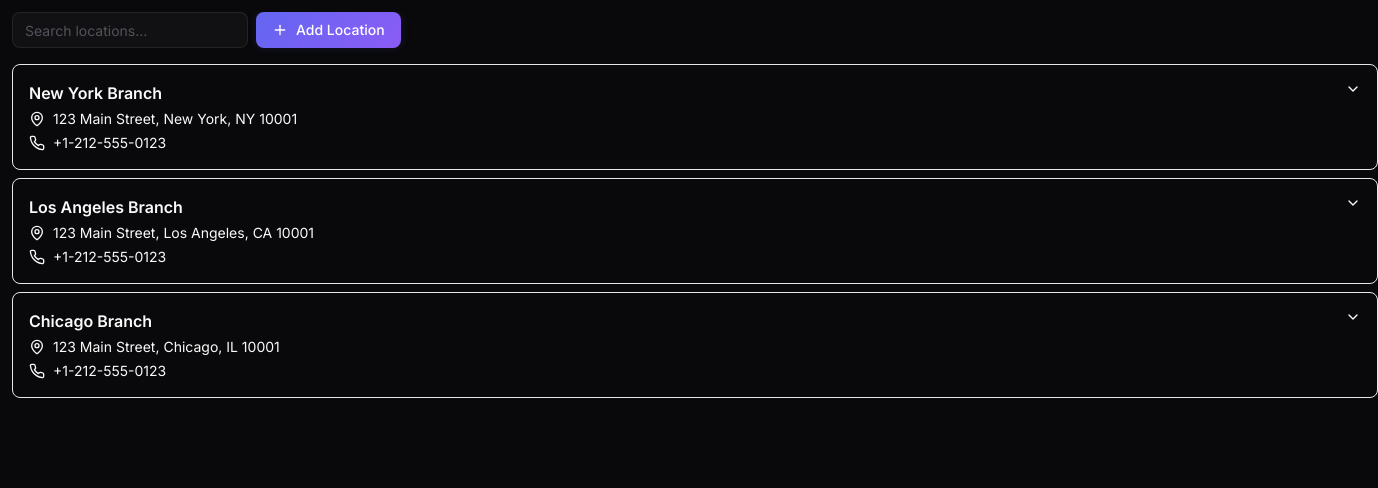
Scenario: LocationList Component › expands location details
This screenshot has width=1378, height=488.
Click the text "New York Branch" at (163, 117), box x1=29 y1=83 x2=297 y2=151
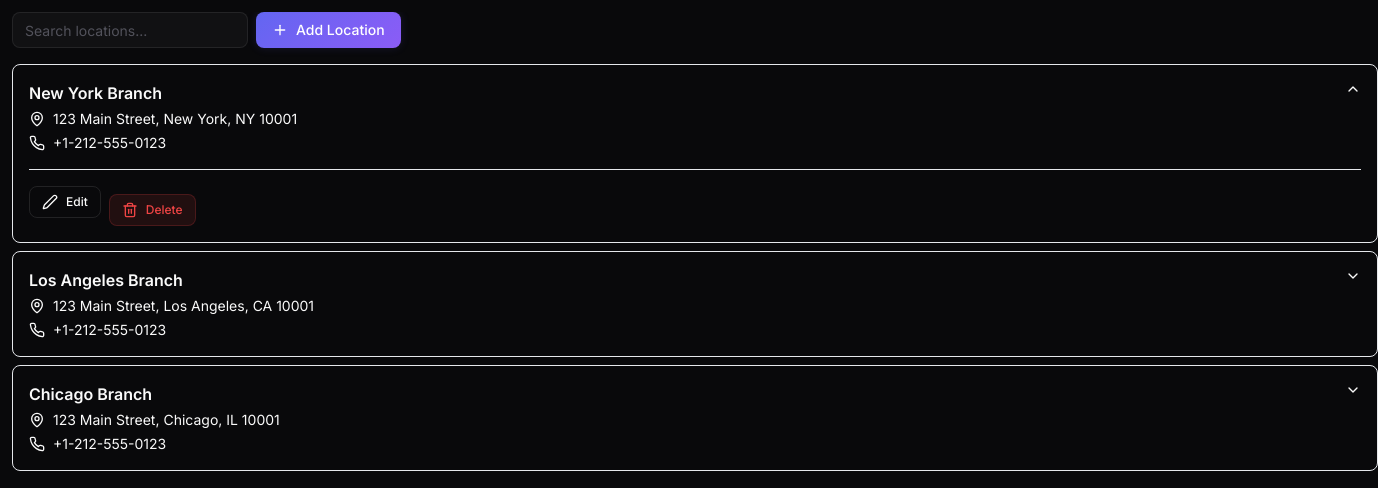
Result: the button "Edit" is shown at x1=29 y1=186 x2=101 y2=218
Result: the button "Delete" is shown at x1=109 y1=194 x2=196 y2=226
